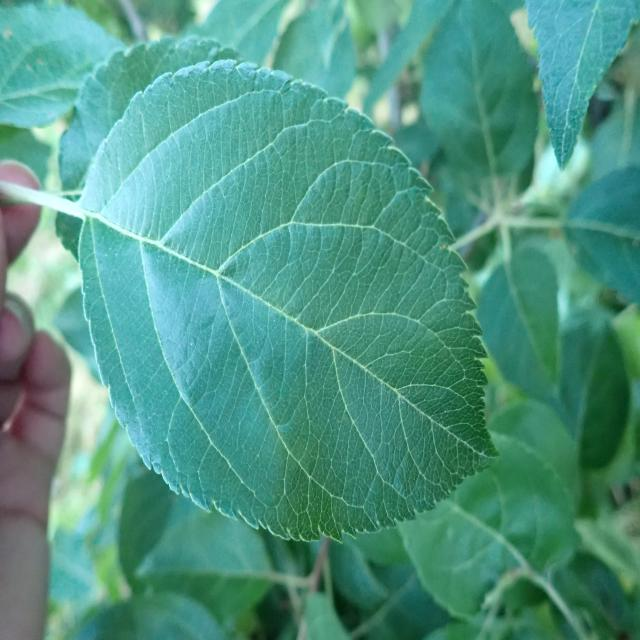healthy: (78, 59, 500, 544), (55, 35, 246, 264), (398, 433, 579, 621), (524, 0, 640, 171), (1, 1, 128, 129), (562, 165, 640, 308)
